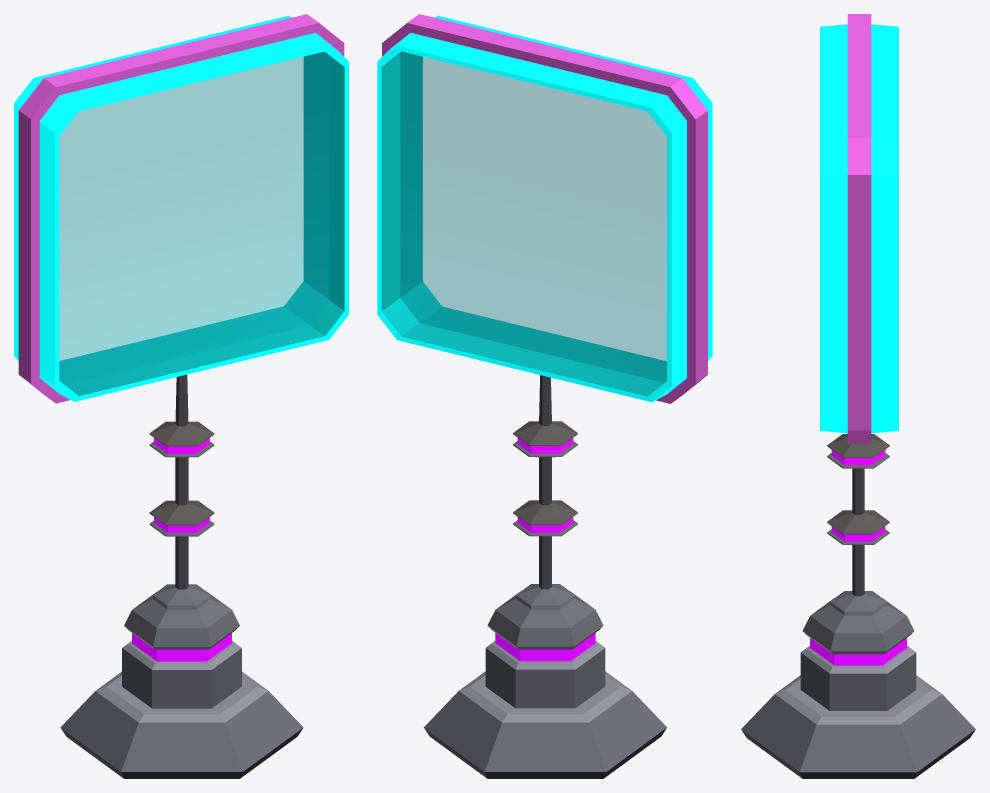
File: banca.gltf
3 renders of one model, left to right at view 1: azimuth 30°, elevation 25°; view 2: azimuth 150°, elevation 25°; view 3: azimuth 270°, elevation 25°, orthographic. The views are drawn at different scales.
Visible parts, largest first — view 1: banca; view 2: banca; view 3: banca.
Boxes of the visible parts, x1,y1,x2,y2 form: banca: (14,14,348,778); banca: (377,14,712,778); banca: (741,14,975,778).
Size of what is drawn, in the model's own units: 1.4 by 2.94 by 0.9439.
Materials: 2 (2 with a texture image).
